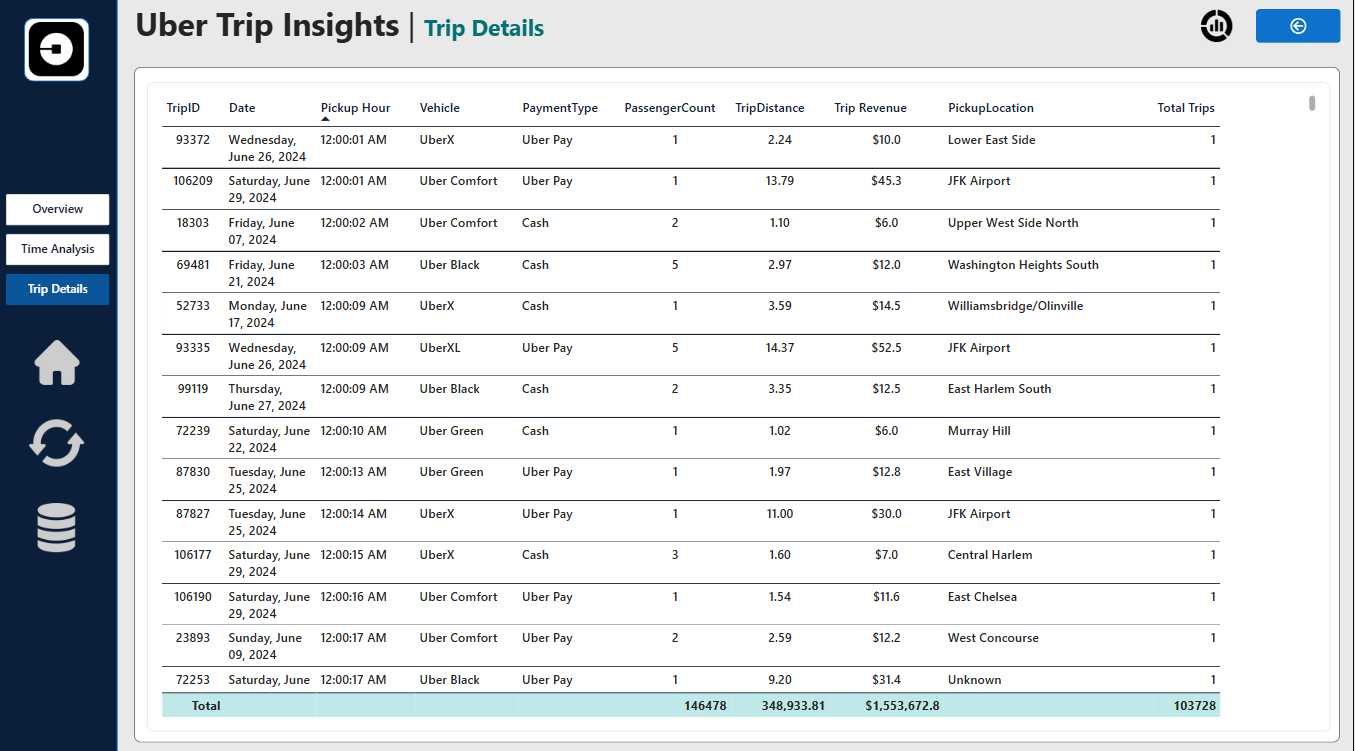

This screenshot's page, from the dashboard's own definition file:
{"tool":"powerbi","page":{"name":"Trip Details","canvas":[1600,900],"ordinal":2},"visuals":[{"type":"shape","box":[0,0,142,900],"z":0},{"type":"textbox","box":[162.1,10.2,732.2,57.8],"z":1000},{"type":"shape","box":[162.1,86.1,1422.5,796.9],"z":8000},{"type":"tableEx","fields":{"Values":["FactTrips.TripID","FactTrips.Date","FactTrips.Pickup Hour (HH MM SS)","FactTrips.Vehicle","FactTrips.PaymentType","Sum(FactTrips.PassengerCount)","Sum(FactTrips.TripDistance)","Core Measures.Total Trip Revenue","DimPickup.PickupLocation","Core Measures.Total Trips"]},"box":[176.8,104.3,1396.5,766.2],"z":8001},{"type":"actionButton","box":[1484.9,18.1,100,40],"z":8002},{"type":"image","box":[1420.3,18.1,37.4,39.7],"z":8003},{"type":"pageNavigator","box":[10.2,235.8,122.4,131.5],"z":8004},{"type":"shape","box":[31.7,28.3,77.1,74.8],"z":8005},{"type":"image","box":[16.7,33.3,106.7,64.4],"z":8006},{"type":"image","box":[12.2,496.7,116.7,65.6],"z":8007},{"type":"image","box":[13.3,600,114.4,57.8],"z":8008},{"type":"image","box":[15.6,407.8,111.1,53.3],"z":8009}]}

Visuals, with their boxes on the page's 1600x900 design canvas (x1, y1, x2, y2). These are canvas units, not pixel positions in the 1355x751 screenshot, which may show the page scaled, cropped or inside an application window:
shape: box(0, 0, 142, 900)
textbox: box(162, 10, 894, 68)
shape: box(162, 86, 1585, 883)
tableEx - FactTrips.TripID x FactTrips.Date: box(177, 104, 1573, 870)
actionButton: box(1485, 18, 1585, 58)
image: box(1420, 18, 1458, 58)
pageNavigator: box(10, 236, 133, 367)
shape: box(32, 28, 109, 103)
image: box(17, 33, 123, 98)
image: box(12, 497, 129, 562)
image: box(13, 600, 128, 658)
image: box(16, 408, 127, 461)
